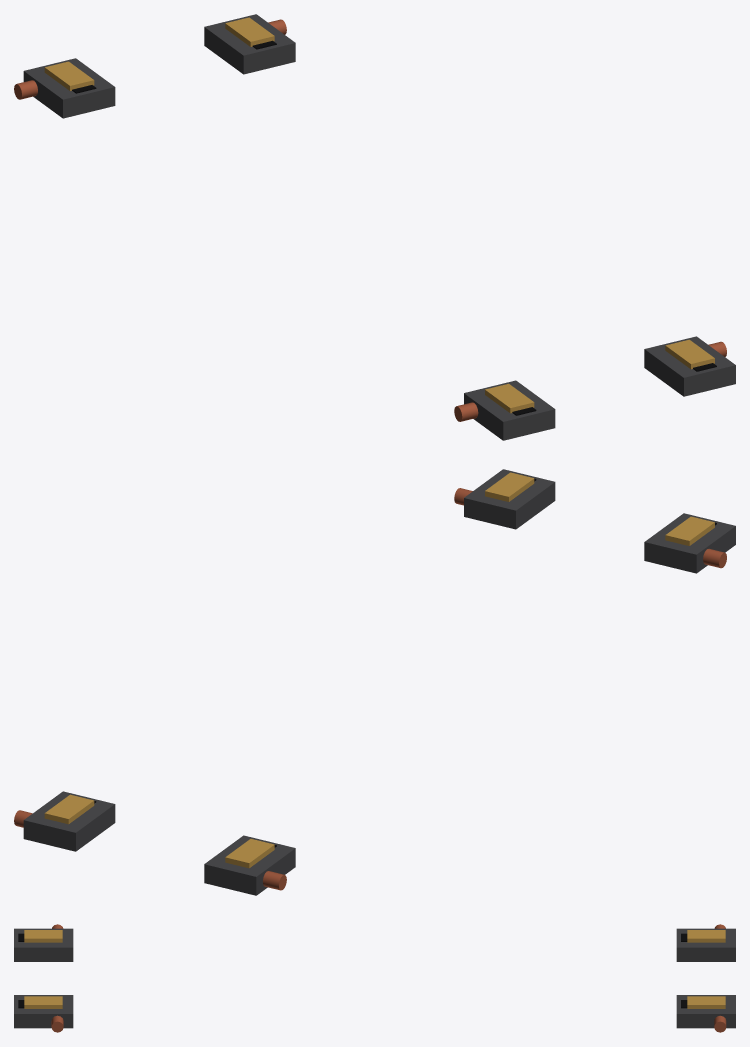
Rendered from boat20_release.obj.
The picture shows the model from 3 angles, top to bottom: view 1: azimuth 30°, elevation 25°; view 2: azimuth 150°, elevation 25°; view 3: azimuth 270°, elevation 25°; orthographic projection. The views are drawn at different scales.
Parts seen in each view (by area): view 1: boat20_release; view 2: boat20_release; view 3: boat20_release.
Boxes of the visible parts, x1,y1,x2,y2 form: boat20_release: (14,14,735,440); boat20_release: (14,469,735,895); boat20_release: (14,924,735,1032).
Size of the model in its own units: 1.32 by 0.115 by 4.14.
